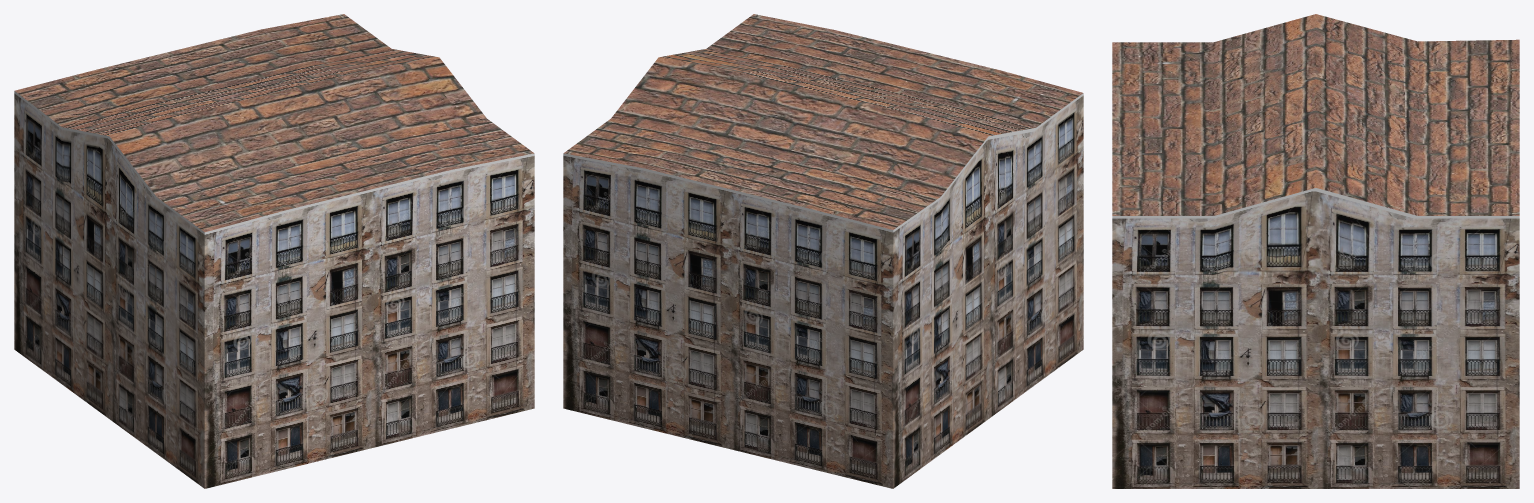
File: house bsp1.FBX
3 renders of one model, left to right at view 1: azimuth 30°, elevation 25°; view 2: azimuth 150°, elevation 25°; view 3: azimuth 270°, elevation 25°, orthographic. The views are drawn at different scales.
Parts seen in each view (by area): view 1: Box001; view 2: Box001; view 3: Box001.
Boxes of the visible parts, x1,y1,x2,y2 form: Box001: (14,14,534,488); Box001: (563,14,1083,488); Box001: (1112,14,1519,488).
Bounding box in the file's own units: 2000 × 1653 × 2000.
Materials: 2 (2 with a texture image).
